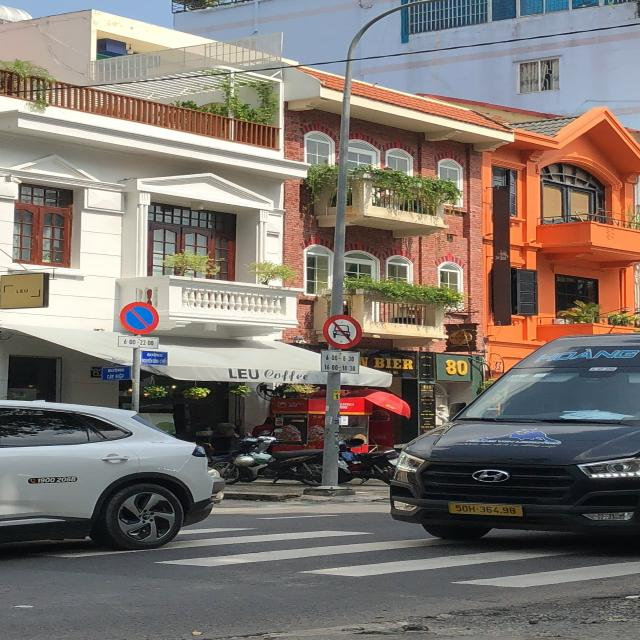Bien bao cam do xe: (113, 301, 161, 334)
Bien bao cam xe oto: (323, 312, 366, 348)
